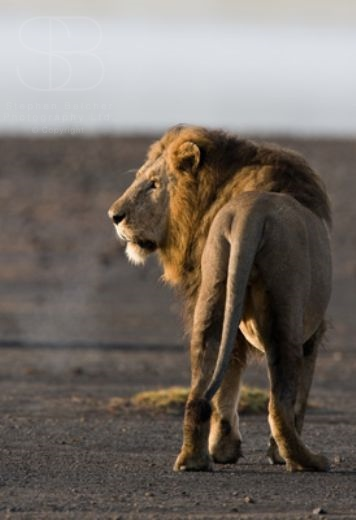lion: (107, 121, 337, 476)
